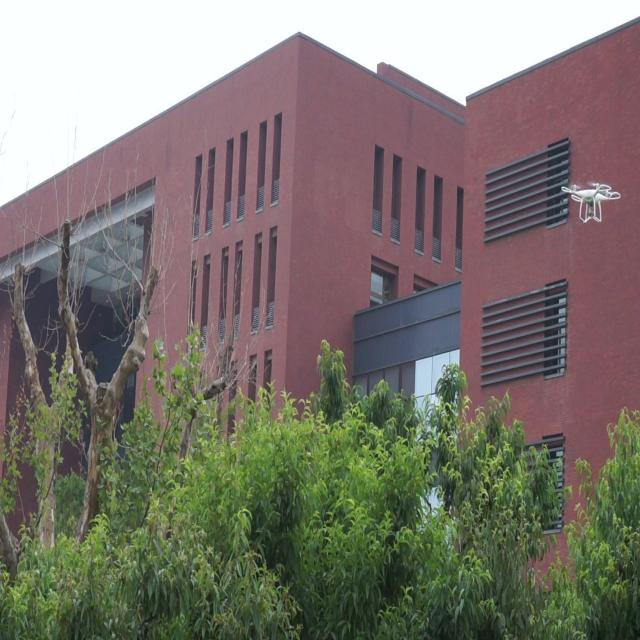drone: (558, 181, 622, 229)
